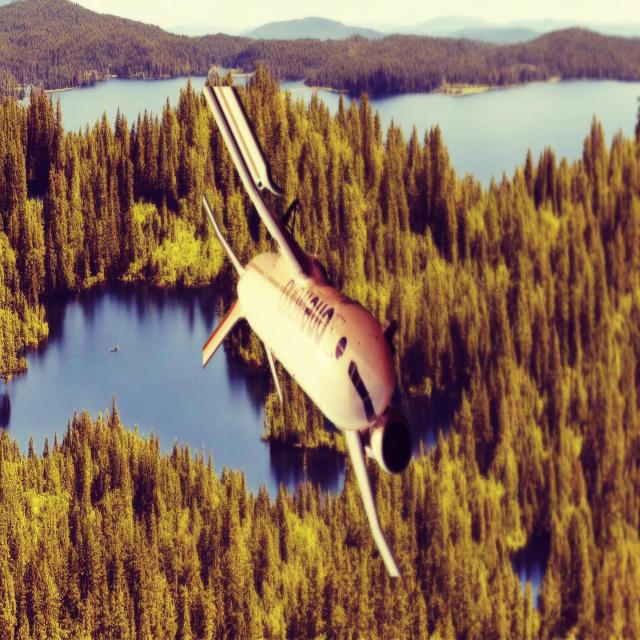airplane: (200, 79, 413, 579)
